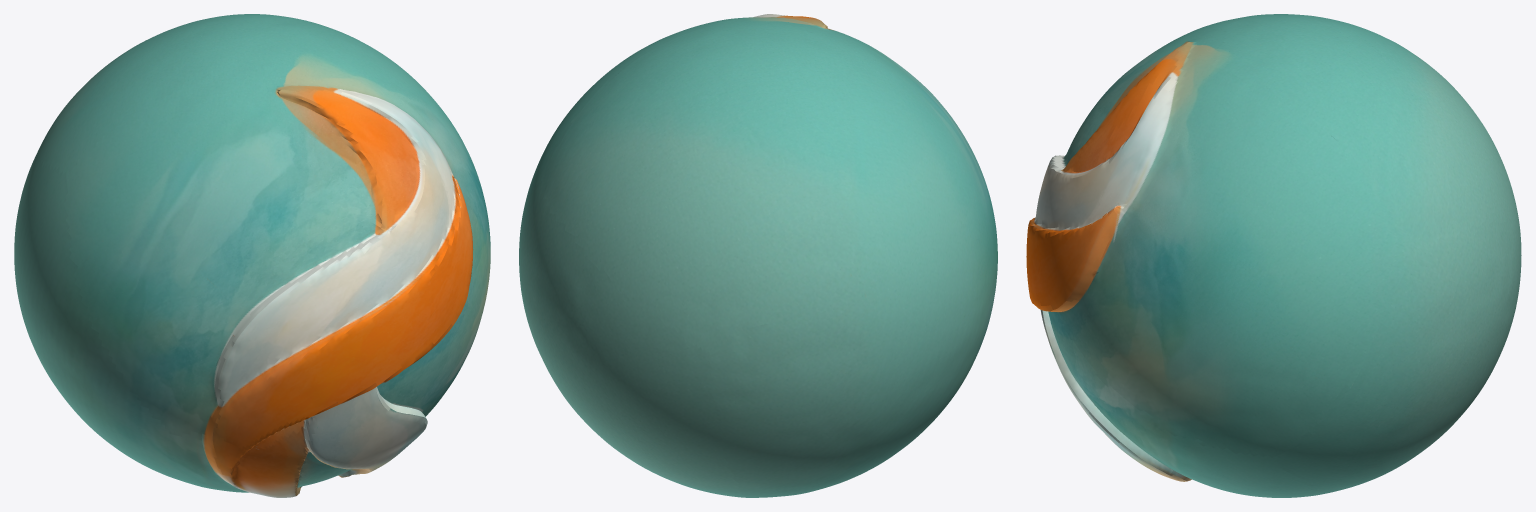
Rendered from Meshy_AI_Aqua_Citrus_Swirl_1122050839_texture.glb.
The picture shows the model from 3 angles, left to right: view 1: azimuth 30°, elevation 25°; view 2: azimuth 150°, elevation 25°; view 3: azimuth 270°, elevation 25°; orthographic projection.
Visible parts, largest first — view 1: Mesh0; view 2: Mesh0; view 3: Mesh0.
Part boxes in pixels (x1,y1,x2,y2): Mesh0: [14, 14, 490, 497]; Mesh0: [519, 14, 997, 497]; Mesh0: [1026, 14, 1521, 497].
Bounding box in the file's own units: 1.86 × 1.87 × 1.9.
Materials: 1 (1 with a texture image).
